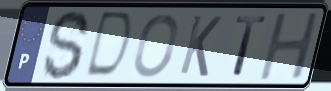D: (81, 10, 136, 82)
H: (255, 9, 323, 83)
K: (176, 12, 224, 79)
O: (130, 12, 181, 80)
S: (40, 8, 93, 83)
T: (230, 14, 270, 78)
